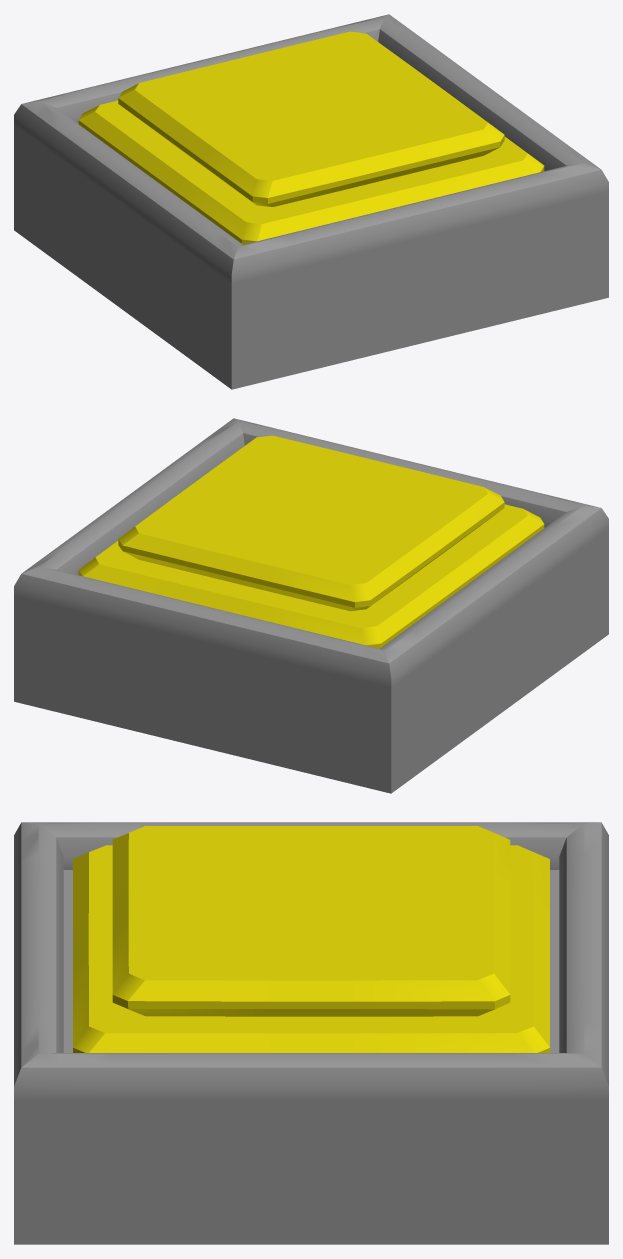
Rendered from Button_Gold.fbx.
3 views of the same model, one above another, from view 1: azimuth 30°, elevation 25°; view 2: azimuth 150°, elevation 25°; view 3: azimuth 270°, elevation 25° (orthographic). The views are drawn at different scales.
Visible parts, largest first — view 1: Button_Gold, Button_Face_Gold; view 2: Button_Gold, Button_Face_Gold; view 3: Button_Gold, Button_Face_Gold.
Part boxes in pixels (x1=…): Button_Gold: x1=14, y1=14, x2=608, y2=389; Button_Face_Gold: x1=78, y1=31, x2=544, y2=244; Button_Gold: x1=14, y1=418, x2=608, y2=793; Button_Face_Gold: x1=78, y1=435, x2=544, y2=648; Button_Gold: x1=14, y1=822, x2=608, y2=1244; Button_Face_Gold: x1=73, y1=826, x2=549, y2=1052.
Bounding box in the file's own units: 3.74 × 1.5 × 3.74.
